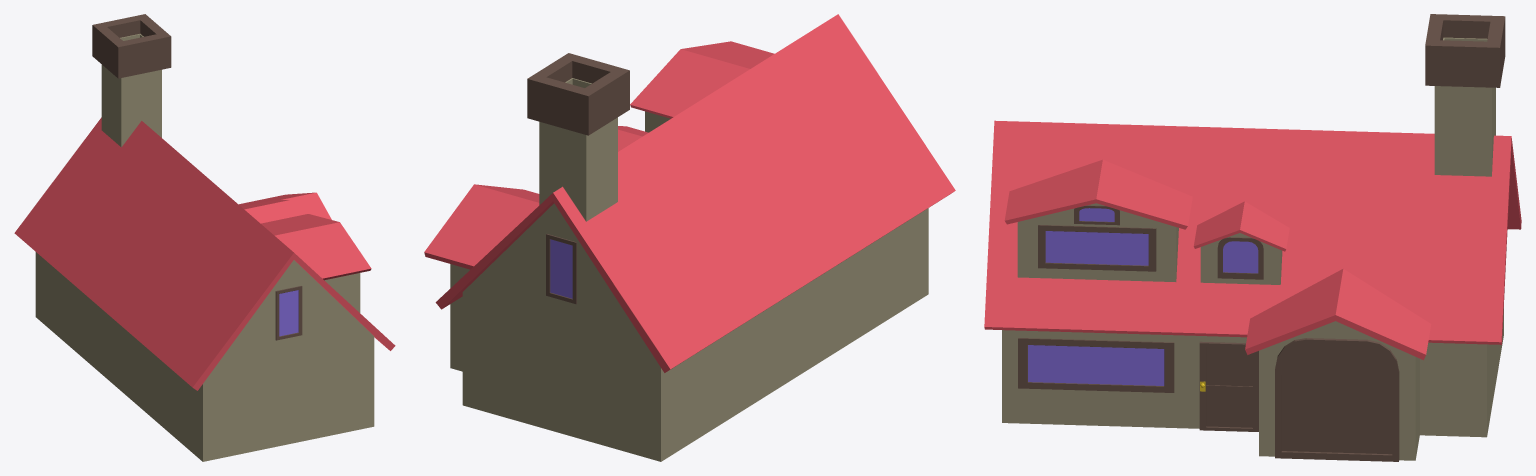
File: CALLE3_CASA1_030.fbx
3 views of the same model, side by side, from view 1: azimuth 30°, elevation 25°; view 2: azimuth 150°, elevation 25°; view 3: azimuth 270°, elevation 25° (orthographic). The views are drawn at different scales.
Parts seen in each view (by area): view 1: CASA1.030; view 2: CASA1.030; view 3: CASA1.030.
Boxes of the visible parts, x1,y1,x2,y2 form: CASA1.030: [14, 14, 395, 461]; CASA1.030: [424, 14, 955, 461]; CASA1.030: [984, 14, 1521, 461].
Size of the model in its own units: 714 by 734 by 1009.
